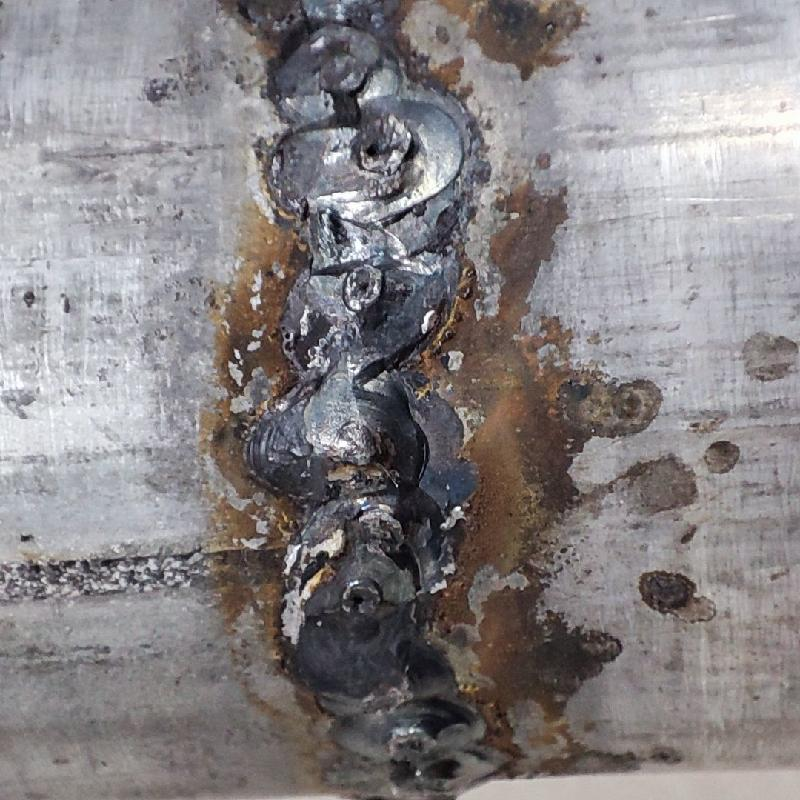Surface_pores: (353, 116, 407, 172), (339, 267, 386, 310), (334, 579, 387, 616)
